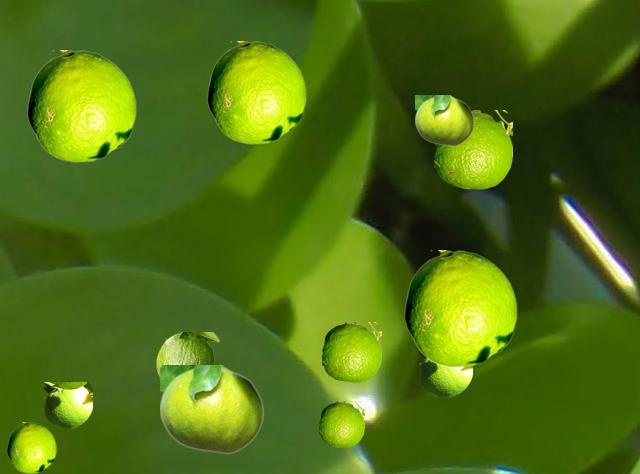dalandan: (404, 250, 516, 366), (27, 50, 135, 161), (207, 41, 305, 143), (160, 365, 263, 453), (434, 110, 511, 188), (322, 322, 380, 381), (415, 95, 473, 145), (156, 332, 218, 378), (7, 422, 55, 472), (419, 352, 471, 396), (44, 382, 91, 427), (319, 401, 363, 446)
